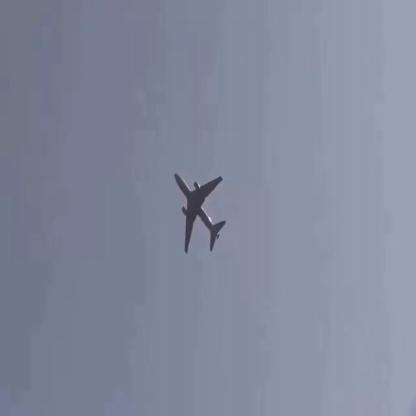CIV_Plane: (173, 173, 227, 252)
